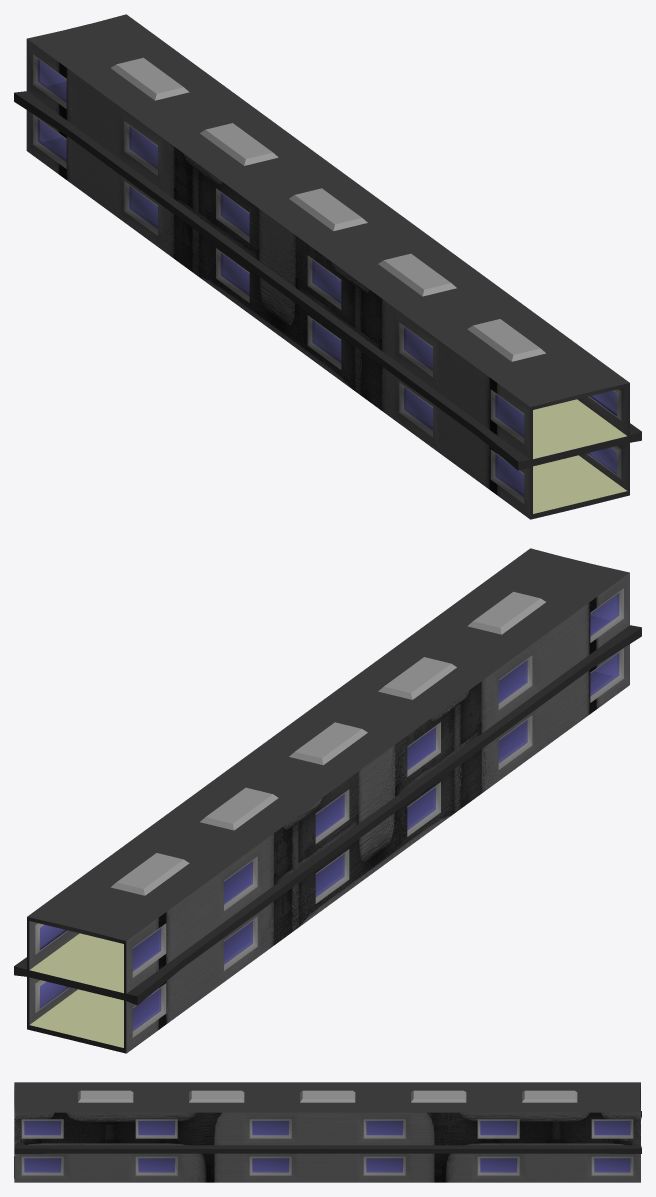
Rendered from Corridor-Large-width.obj.
The picture shows the model from 3 angles, top to bottom: view 1: azimuth 30°, elevation 25°; view 2: azimuth 150°, elevation 25°; view 3: azimuth 270°, elevation 25°; orthographic projection. The views are drawn at different scales.
Parts seen in each view (by area): view 1: Corridor_Large_width; view 2: Corridor_Large_width; view 3: Corridor_Large_width.
Part boxes in pixels (x1,y1,x2,y2): Corridor_Large_width: [14, 14, 641, 519]; Corridor_Large_width: [14, 548, 641, 1053]; Corridor_Large_width: [14, 1082, 641, 1182].
Bounding box in the file's own units: 1.18 × 1.1 × 8.33.
